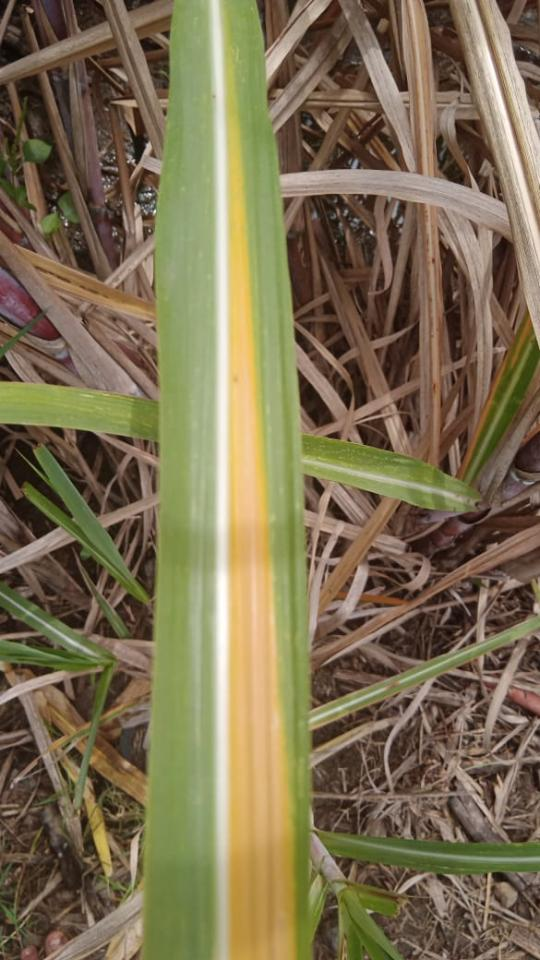Yellow: (227, 42, 298, 959)
